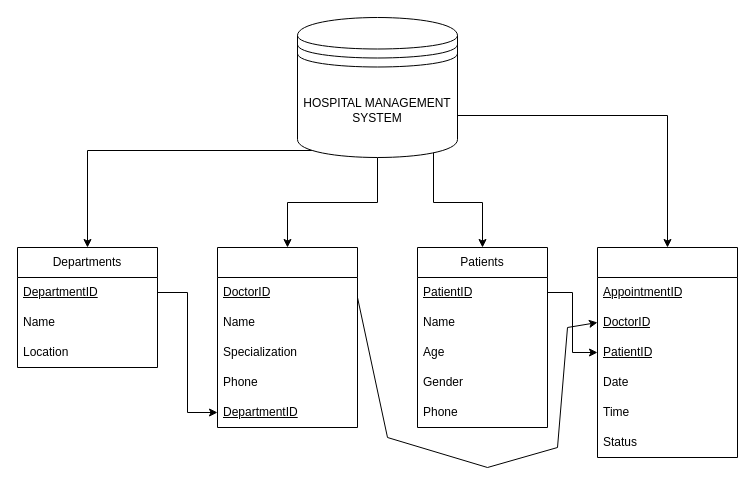
Image size: 755x493. Some labels were removed from this diagram. The box of each missing label's shape, as (x1, y1, x2, y2) in pixels:
Appointments: (596, 246, 738, 458)
Doctors: (216, 246, 358, 428)
